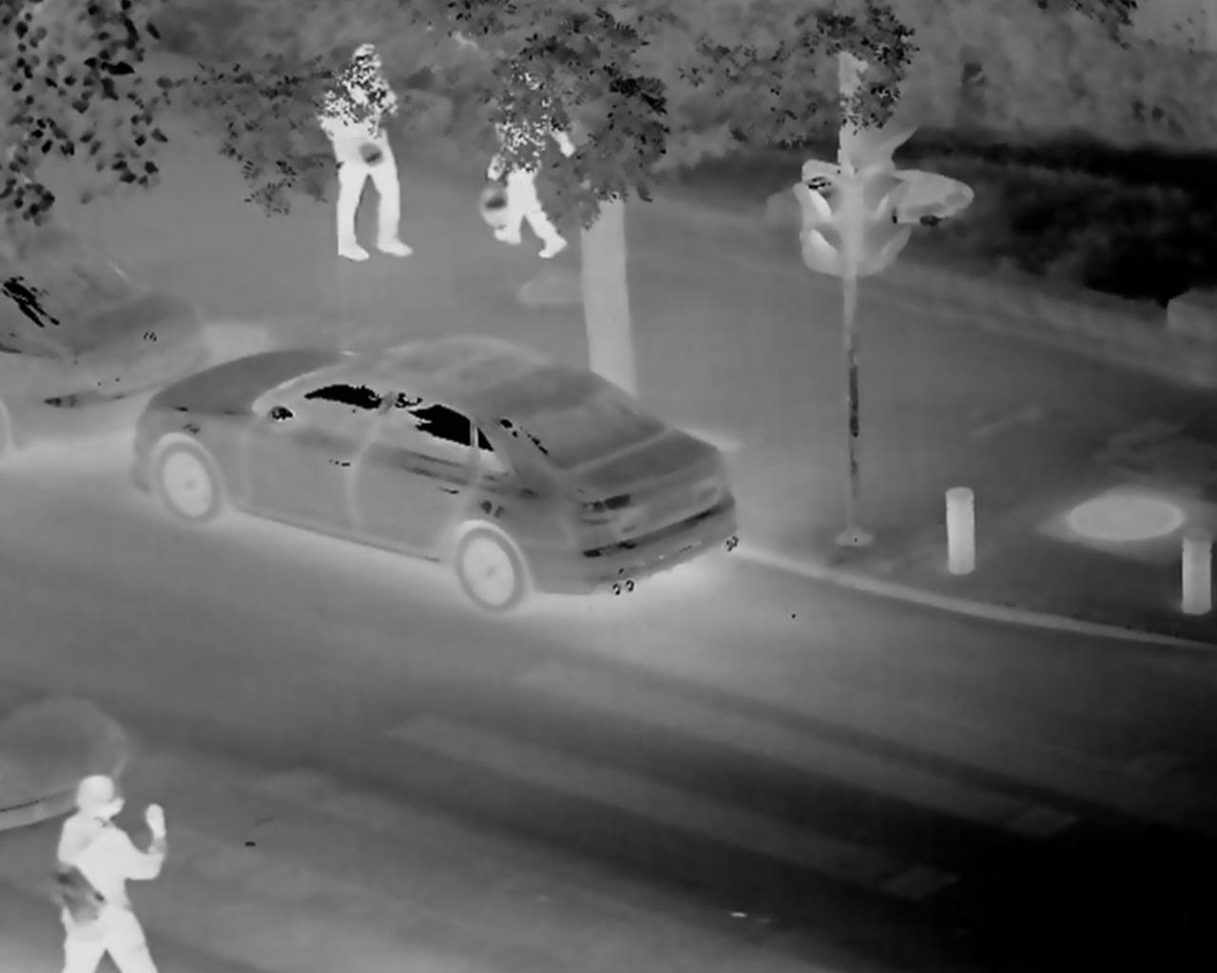person: (311, 41, 423, 272), (53, 773, 166, 973), (488, 59, 572, 264)
